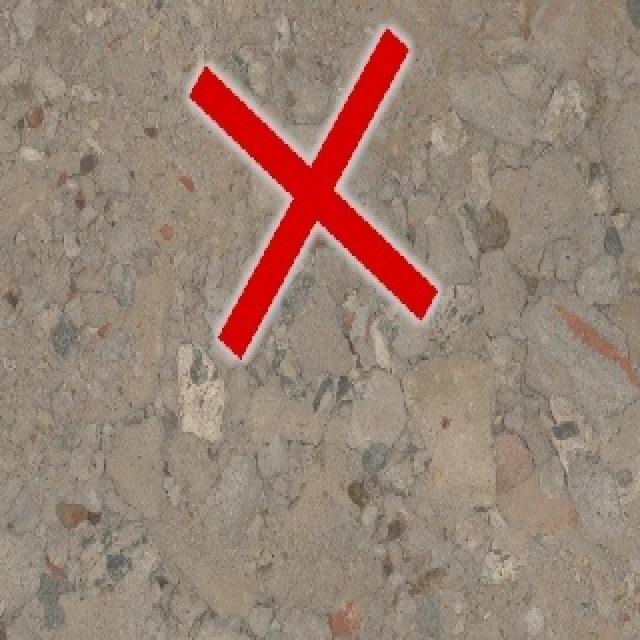x_marker: (189, 28, 437, 356)
